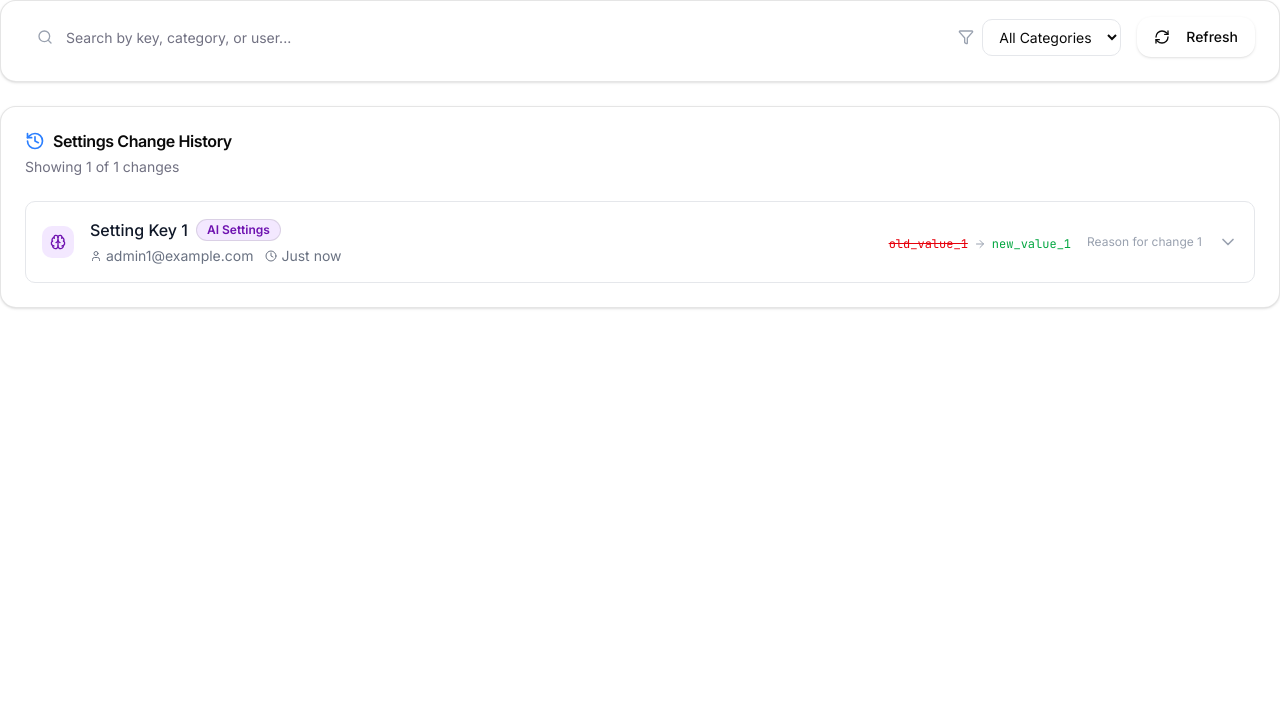
Test: SettingsHistoryPanel › Expandable Details › should collapse entry when clicked again
expect the text "admin1@example.com" is shown: met, box [90, 246, 254, 266]
Click the button that starts with "Setting Key 1": click(58, 242) [42, 219, 1238, 264]
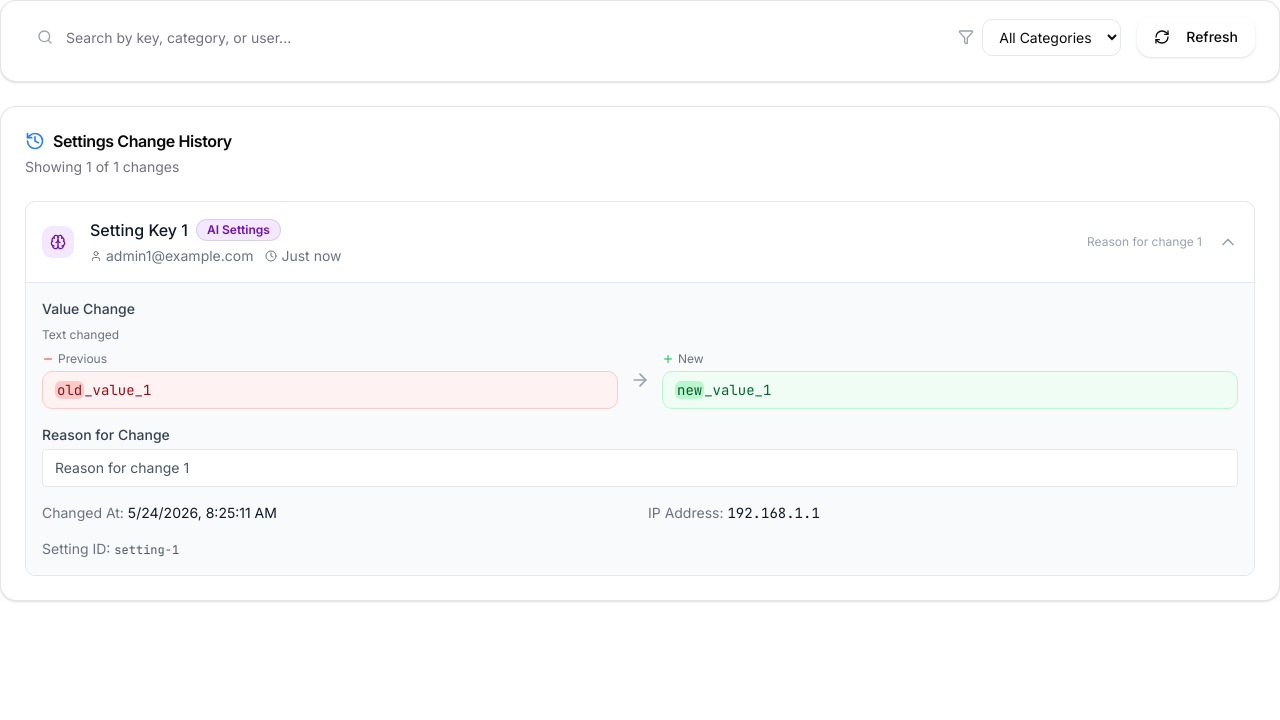
expect the heading "Value Change" is shown: met, box [42, 300, 135, 317]
Click the button that starts with "Setting Key 1": click(58, 242) [42, 219, 1238, 264]
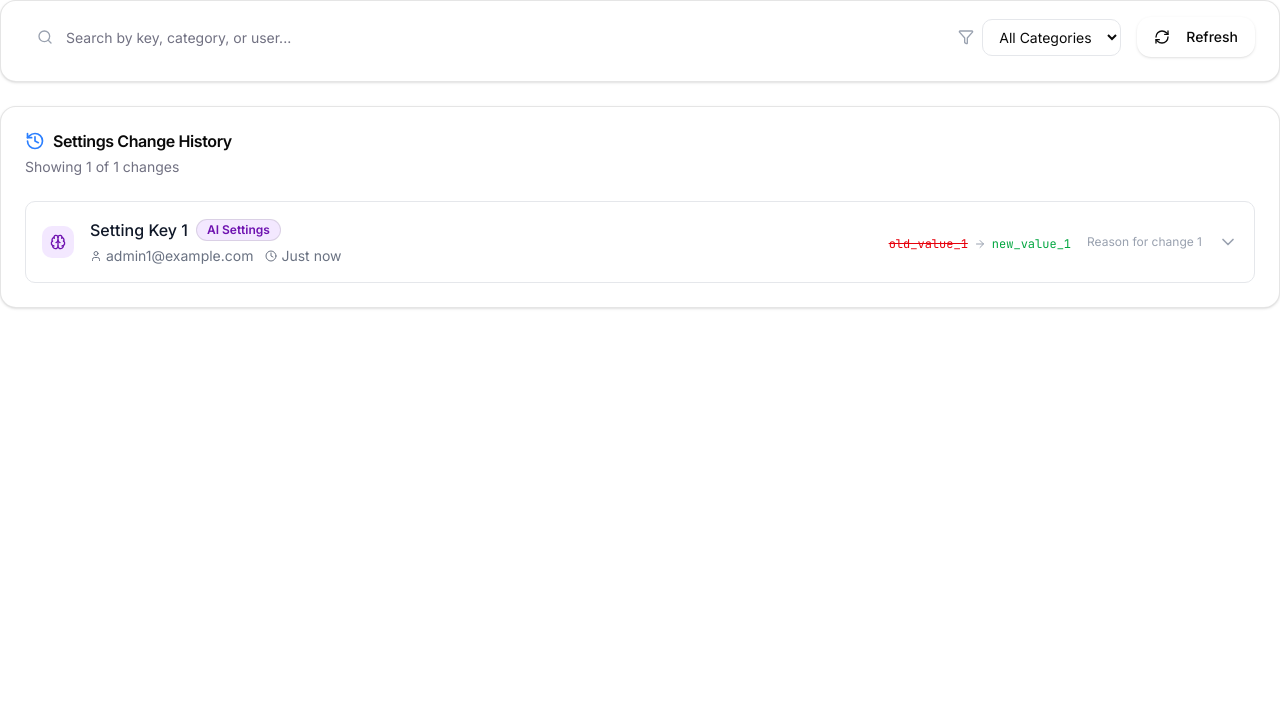
expect the heading "Value Change" is gone: met
